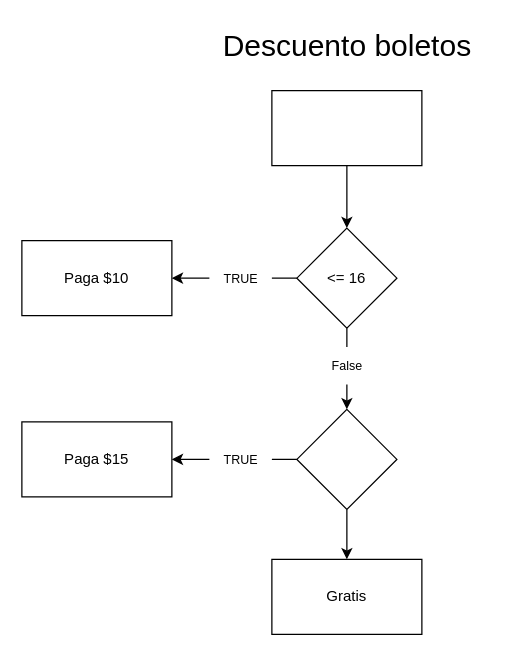
Image size: 506x656. Some labels were removed from this diagram. Each missing label, with the box of its shape:
> 16 y <= 60: (296, 408, 397, 509)
Edad: (271, 89, 422, 166)
